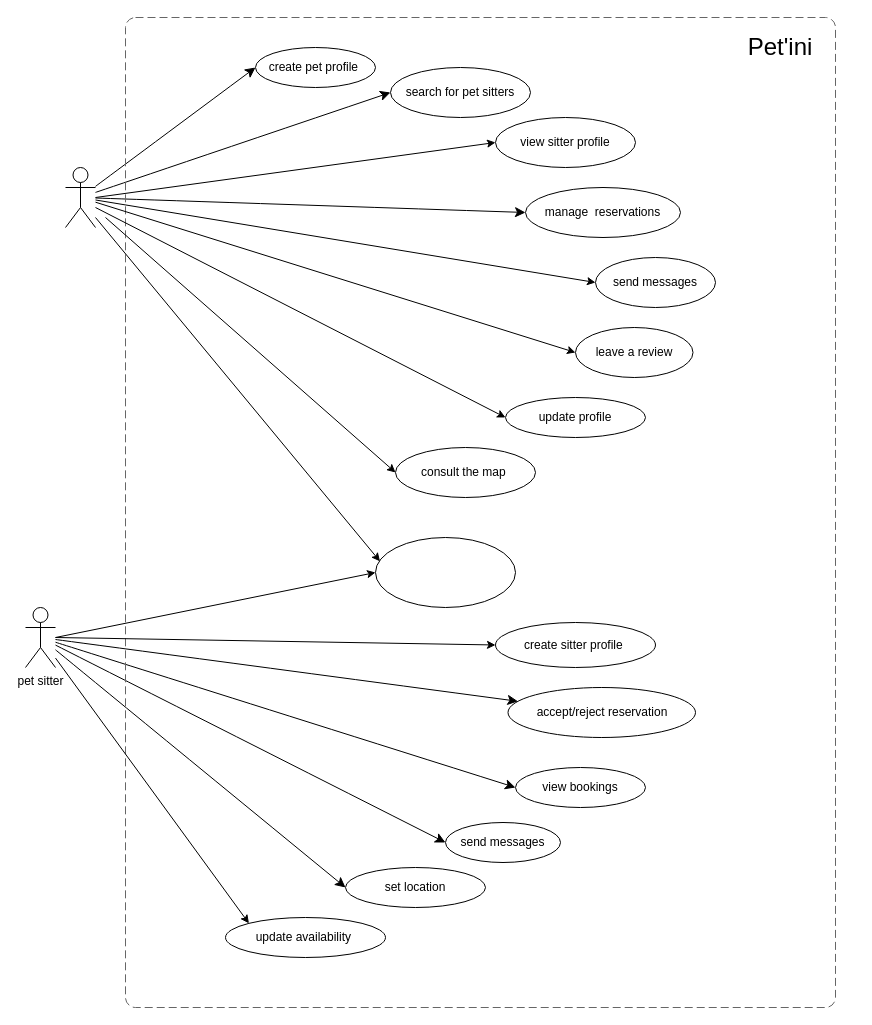
Some shapes in this 872 by 1025 pixel diagram are drawn without their labels. Here are the shapes that lost their labels. From the top down, the centre of each, then its label:
(x=80, y=197): pet owner
(x=445, y=572): login/sign up
